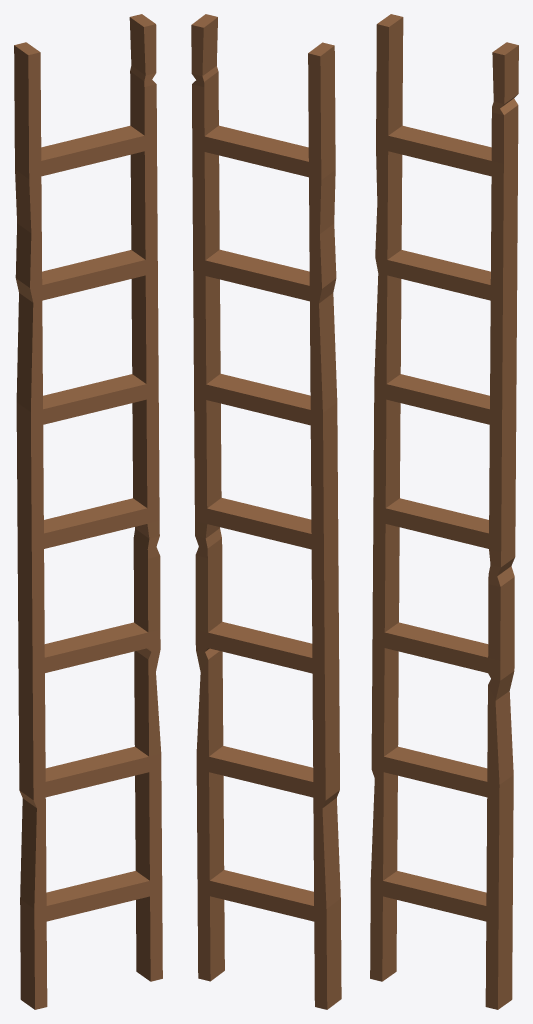
The model's file is Ladder_medium.glb.
The picture shows the model from 3 angles, left to right: view 1: azimuth 30°, elevation 25°; view 2: azimuth 150°, elevation 25°; view 3: azimuth 330°, elevation 25°; orthographic projection.
Visible parts, largest first — view 1: Ladder_medium; view 2: Ladder_medium; view 3: Ladder_medium.
Part boxes in pixels (<box>): Ladder_medium: <box>14,14,162,1009</box>; Ladder_medium: <box>191,14,341,1009</box>; Ladder_medium: <box>370,14,518,1009</box>.
Bounding box in the file's own units: 0.6331 × 4.5 × 0.1798.
